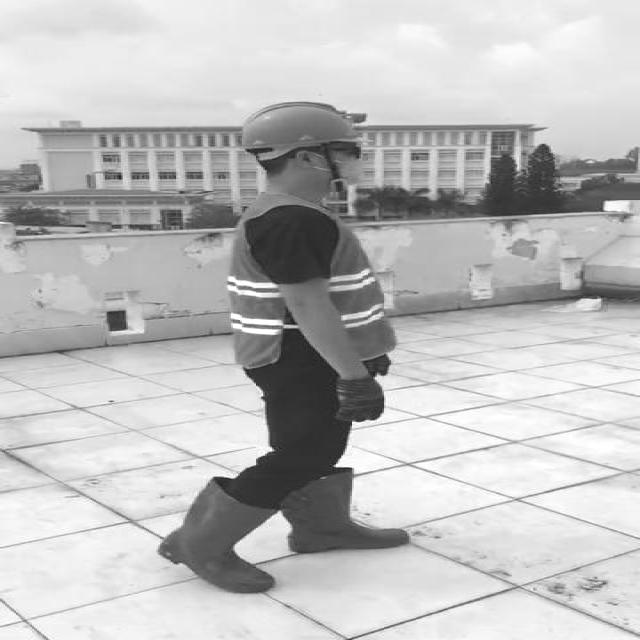boots: (156, 477, 274, 594), (282, 468, 412, 553)
face_mask: (314, 144, 374, 186)
hand_glove: (334, 377, 388, 424)
head_helmet: (238, 100, 368, 152)
person: (148, 96, 428, 596)
vest: (226, 195, 396, 363)
